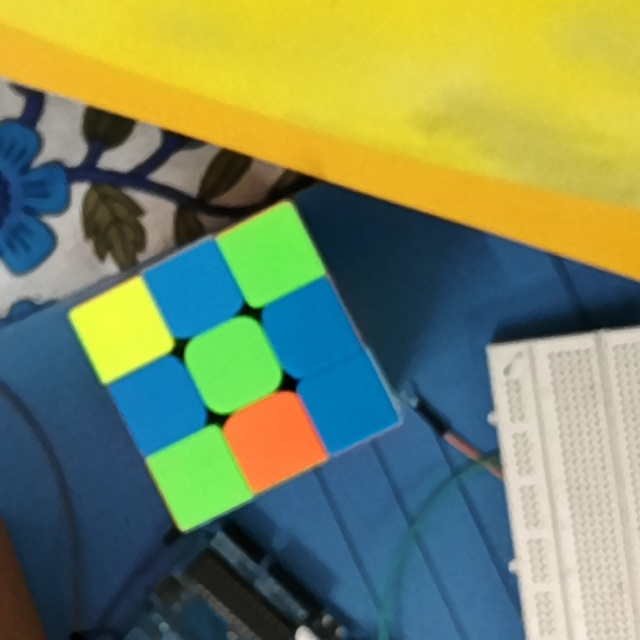tile: (202, 335, 263, 393), (240, 226, 299, 283), (242, 410, 301, 467), (163, 265, 221, 319), (173, 447, 227, 505), (132, 375, 191, 428), (318, 377, 375, 431), (282, 300, 337, 354), (97, 301, 151, 354)
